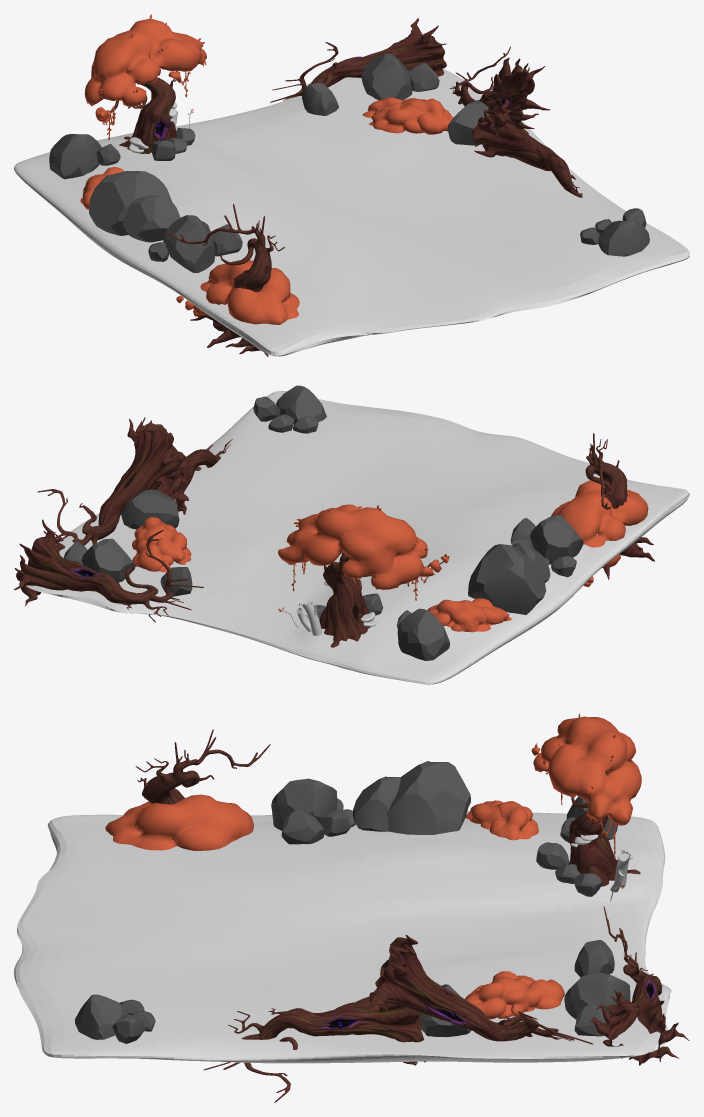
The model's file is Nivel bosque FINAL.fbx.
The picture shows the model from 3 angles, top to bottom: view 1: azimuth 30°, elevation 25°; view 2: azimuth 150°, elevation 25°; view 3: azimuth 270°, elevation 25°; orthographic projection. The views are drawn at different scales.
Visible parts, largest first — view 1: Cube.002, leaves_low.001, leaves_low.002, tree_low.003, tree_low.002, tree_low.004, lp.020, tree_low.005, tree_low.001, lp.014, lp.019, lp.002 (+8 smaller); view 2: Cube.002, leaves_low.001, tree_low.002, tree_low.004, lp.020, leaves_low.002, tree_low.001, tree_low.005, lp.001, lp.014, lp.009, tree_low.003 (+10 smaller); view 3: Cube.002, leaves_low.001, tree_low.004, leaves_low.002, tree_low.003, lp.020, tree_low.002, tree_low.001, tree_low.005, lp.014, lp.002, lp.019 (+12 smaller).
Boxes of the visible parts, box(x1,y1,x2,y2) form: Cube.002: box(14, 68, 689, 356); leaves_low.001: box(84, 19, 206, 122); leaves_low.002: box(176, 260, 299, 324); tree_low.003: box(471, 98, 582, 197); tree_low.002: box(270, 18, 446, 102); tree_low.004: box(450, 46, 549, 142); lp.020: box(89, 171, 171, 235); tree_low.005: box(165, 204, 284, 356); tree_low.001: box(106, 72, 176, 153); lp.014: box(164, 215, 215, 273); lp.019: box(123, 195, 180, 242); lp.002: box(361, 53, 412, 100); Cube.002: box(25, 391, 689, 684); leaves_low.001: box(278, 504, 448, 589); tree_low.002: box(14, 519, 203, 622); tree_low.004: box(37, 417, 187, 545); lp.020: box(468, 544, 545, 614); leaves_low.002: box(551, 480, 648, 587); tree_low.001: box(319, 552, 443, 647); tree_low.005: box(585, 433, 654, 579); lp.001: box(397, 608, 449, 660); lp.014: box(530, 515, 583, 564); lp.009: box(121, 489, 179, 529); tree_low.003: box(154, 439, 232, 514); Cube.002: box(14, 811, 671, 1063); leaves_low.001: box(531, 716, 641, 825); tree_low.004: box(368, 934, 593, 1044); leaves_low.002: box(105, 794, 253, 850); tree_low.003: box(203, 996, 425, 1102); lp.020: box(386, 761, 470, 834); tree_low.002: box(590, 906, 689, 1065); tree_low.001: box(537, 753, 640, 886); tree_low.005: box(135, 729, 270, 804); lp.014: box(271, 778, 337, 830); lp.002: box(564, 973, 630, 1019); lp.019: box(353, 776, 400, 831).
Bounding box in the file's own units: 14233 × 5432 × 15559.
